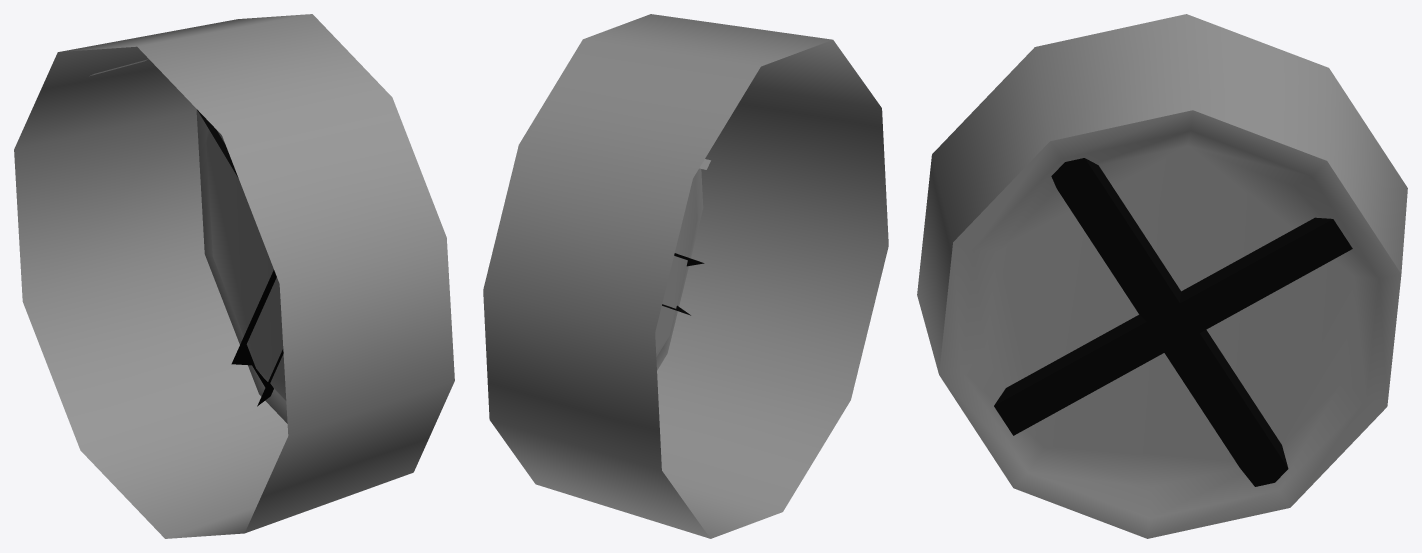
Rendered from Bulldozer_Llanta.fbx.
3 renders of one model, left to right at view 1: azimuth 30°, elevation 25°; view 2: azimuth 150°, elevation 25°; view 3: azimuth 270°, elevation 25°, orthographic. The views are drawn at different scales.
Parts seen in each view (by area): view 1: Bulldozer_Llanta; view 2: Bulldozer_Llanta; view 3: Bulldozer_Llanta.
Part boxes in pixels (x1,y1,x2,y2): Bulldozer_Llanta: (14, 14, 454, 538); Bulldozer_Llanta: (483, 14, 888, 538); Bulldozer_Llanta: (917, 14, 1407, 538).
Bounding box in the file's own units: 109 × 252 × 247.
